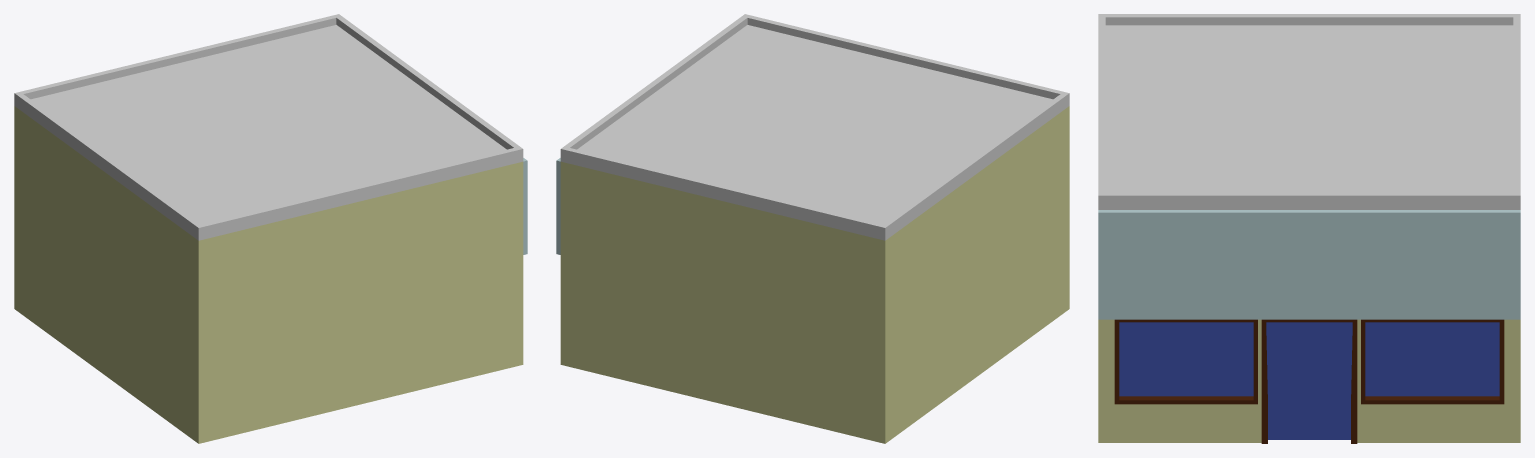
The model's file is Fillcrtshsp1.fbx.
The picture shows the model from 3 angles, left to right: view 1: azimuth 30°, elevation 25°; view 2: azimuth 150°, elevation 25°; view 3: azimuth 270°, elevation 25°; orthographic projection. The views are drawn at different scales.
Parts seen in each view (by area): view 1: Cube.046, Cube.045; view 2: Cube.046, Cube.045; view 3: Cube.045, Cube.046, Cube.044, Cube.041.
Boxes of the visible parts, x1,y1,x2,y2 form: Cube.046: (14,106,523,443); Cube.045: (14,14,523,240); Cube.046: (560,106,1069,443); Cube.045: (560,14,1069,240); Cube.045: (1098,14,1520,209); Cube.046: (1098,319,1520,442); Cube.044: (1098,210,1520,319); Cube.041: (1114,319,1504,443).
Bounding box in the file's own units: 3.96 × 2.48 × 3.84.
